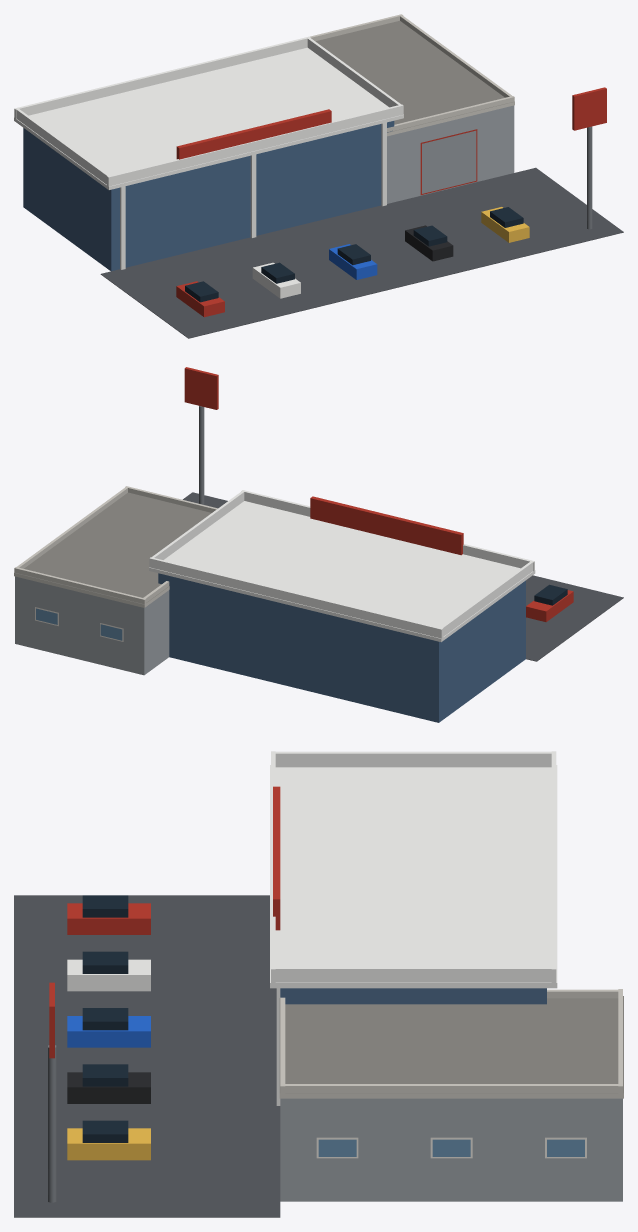
Rendered from concession_auto.glb.
3 views of the same model, one above another, from view 1: azimuth 30°, elevation 25°; view 2: azimuth 150°, elevation 25°; view 3: azimuth 270°, elevation 25° (orthographic). The views are drawn at different scales.
Visible parts, largest first — view 1: concession_auto; view 2: concession_auto; view 3: concession_auto.
Boxes of the visible parts, box(x1,y1,x2,y2) form: concession_auto: box(14, 14, 623, 338); concession_auto: box(14, 367, 623, 722); concession_auto: box(14, 751, 623, 1217).
Bounding box in the file's own units: 40 × 12 × 32.05.
Materials: 1 (1 with a texture image).
